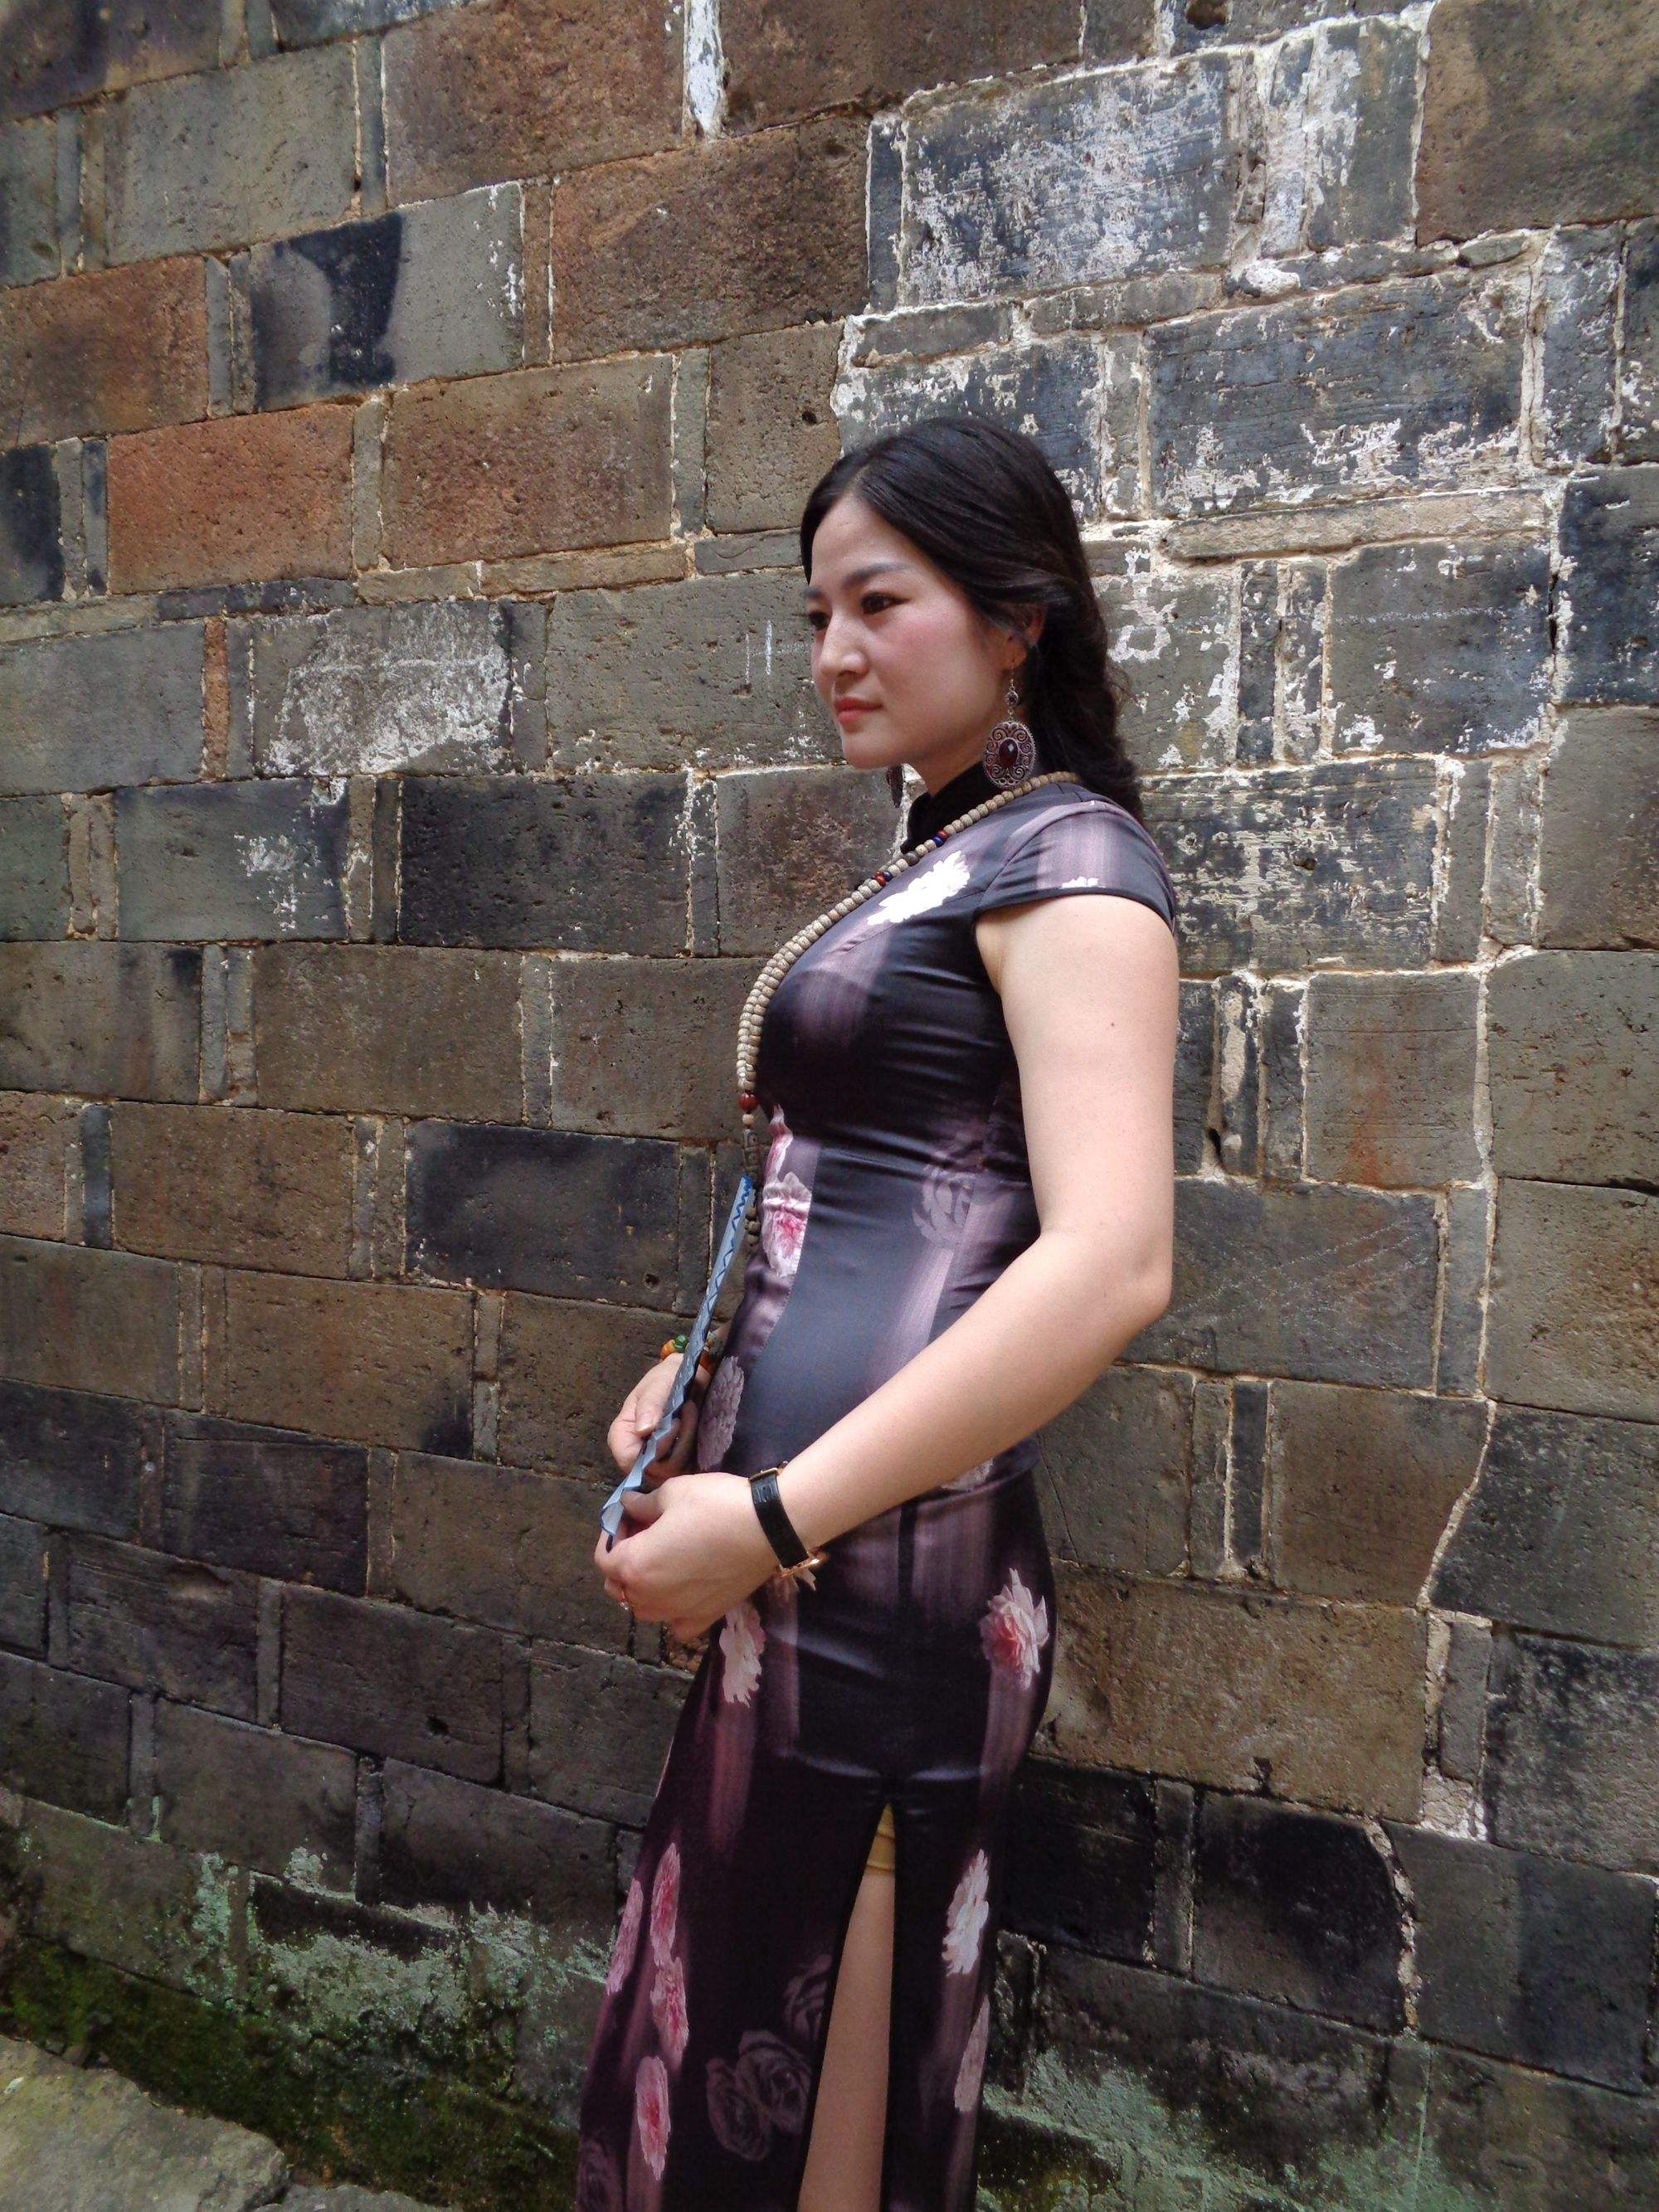person: (546, 373, 1262, 1893)
